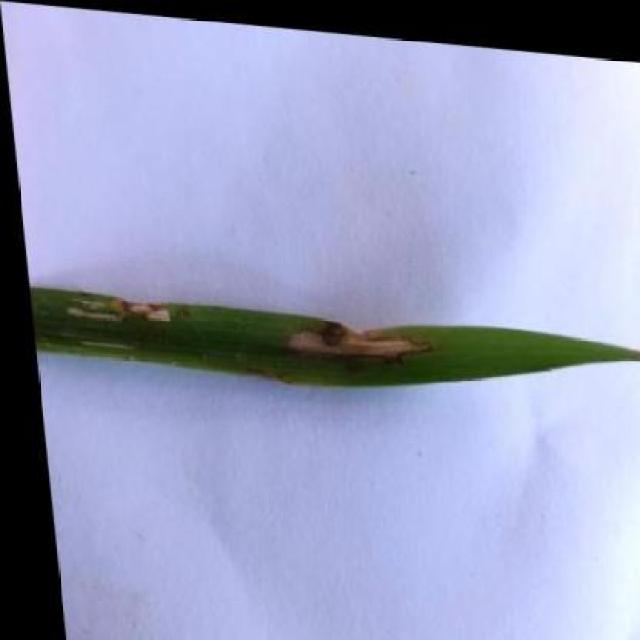Brown_Spot: (23, 276, 640, 416)
